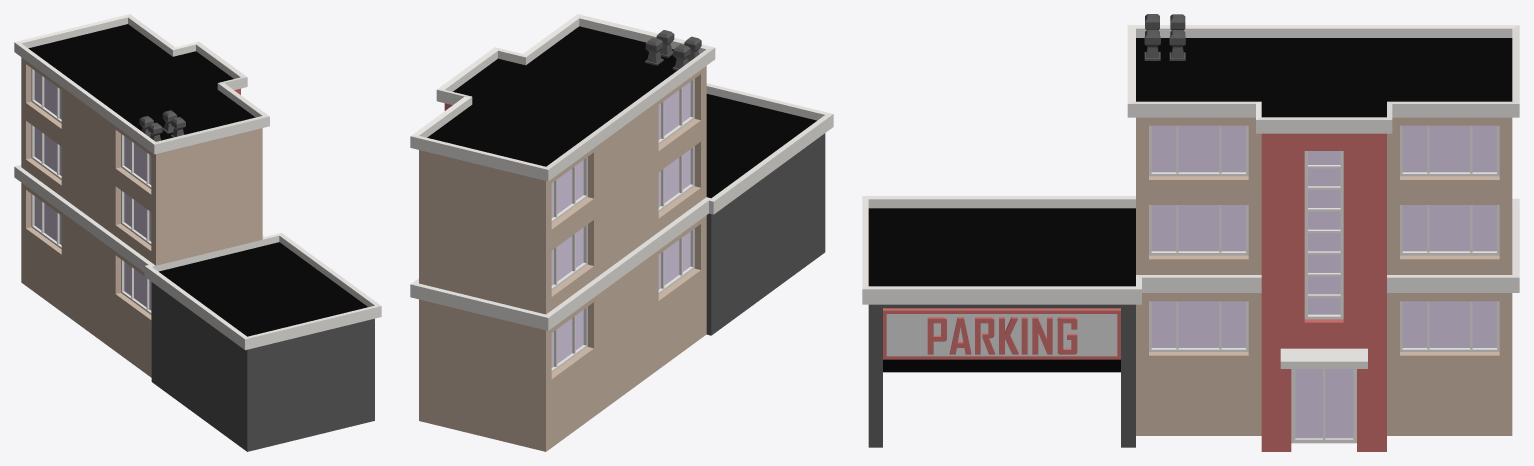
Rendered from parking_garage2.fbx.
3 renders of one model, left to right at view 1: azimuth 30°, elevation 25°; view 2: azimuth 150°, elevation 25°; view 3: azimuth 270°, elevation 25°, orthographic. The views are drawn at different scales.
Visible parts, largest first — view 1: parking lot1; view 2: parking lot1; view 3: parking lot1.
Boxes of the visible parts, <box> form: parking lot1: <box>14,14,381,451</box>; parking lot1: <box>410,14,833,451</box>; parking lot1: <box>862,14,1519,451</box>.
Bounding box in the file's own units: 2135 × 3249 × 5519.
